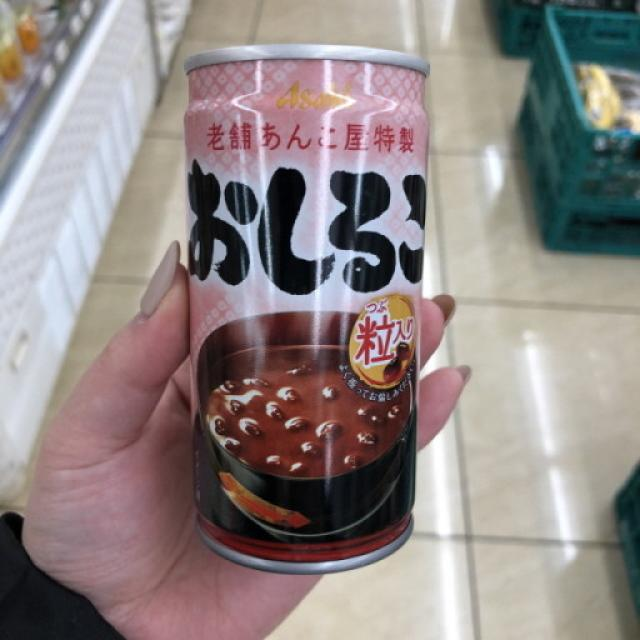Cans: (154, 22, 460, 590)
